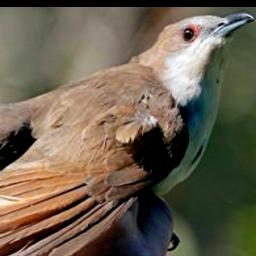Cuckoo: (0, 13, 255, 256)
